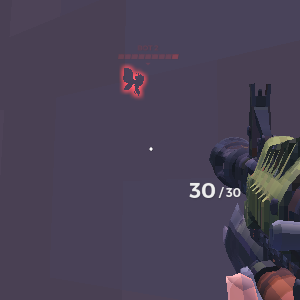model: (121, 55, 146, 101)
